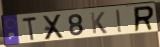8: (68, 13, 86, 37)
I: (115, 8, 124, 34)
K: (90, 11, 109, 35)
R: (133, 5, 156, 34)
T: (21, 15, 39, 43)
X: (42, 13, 66, 42)
